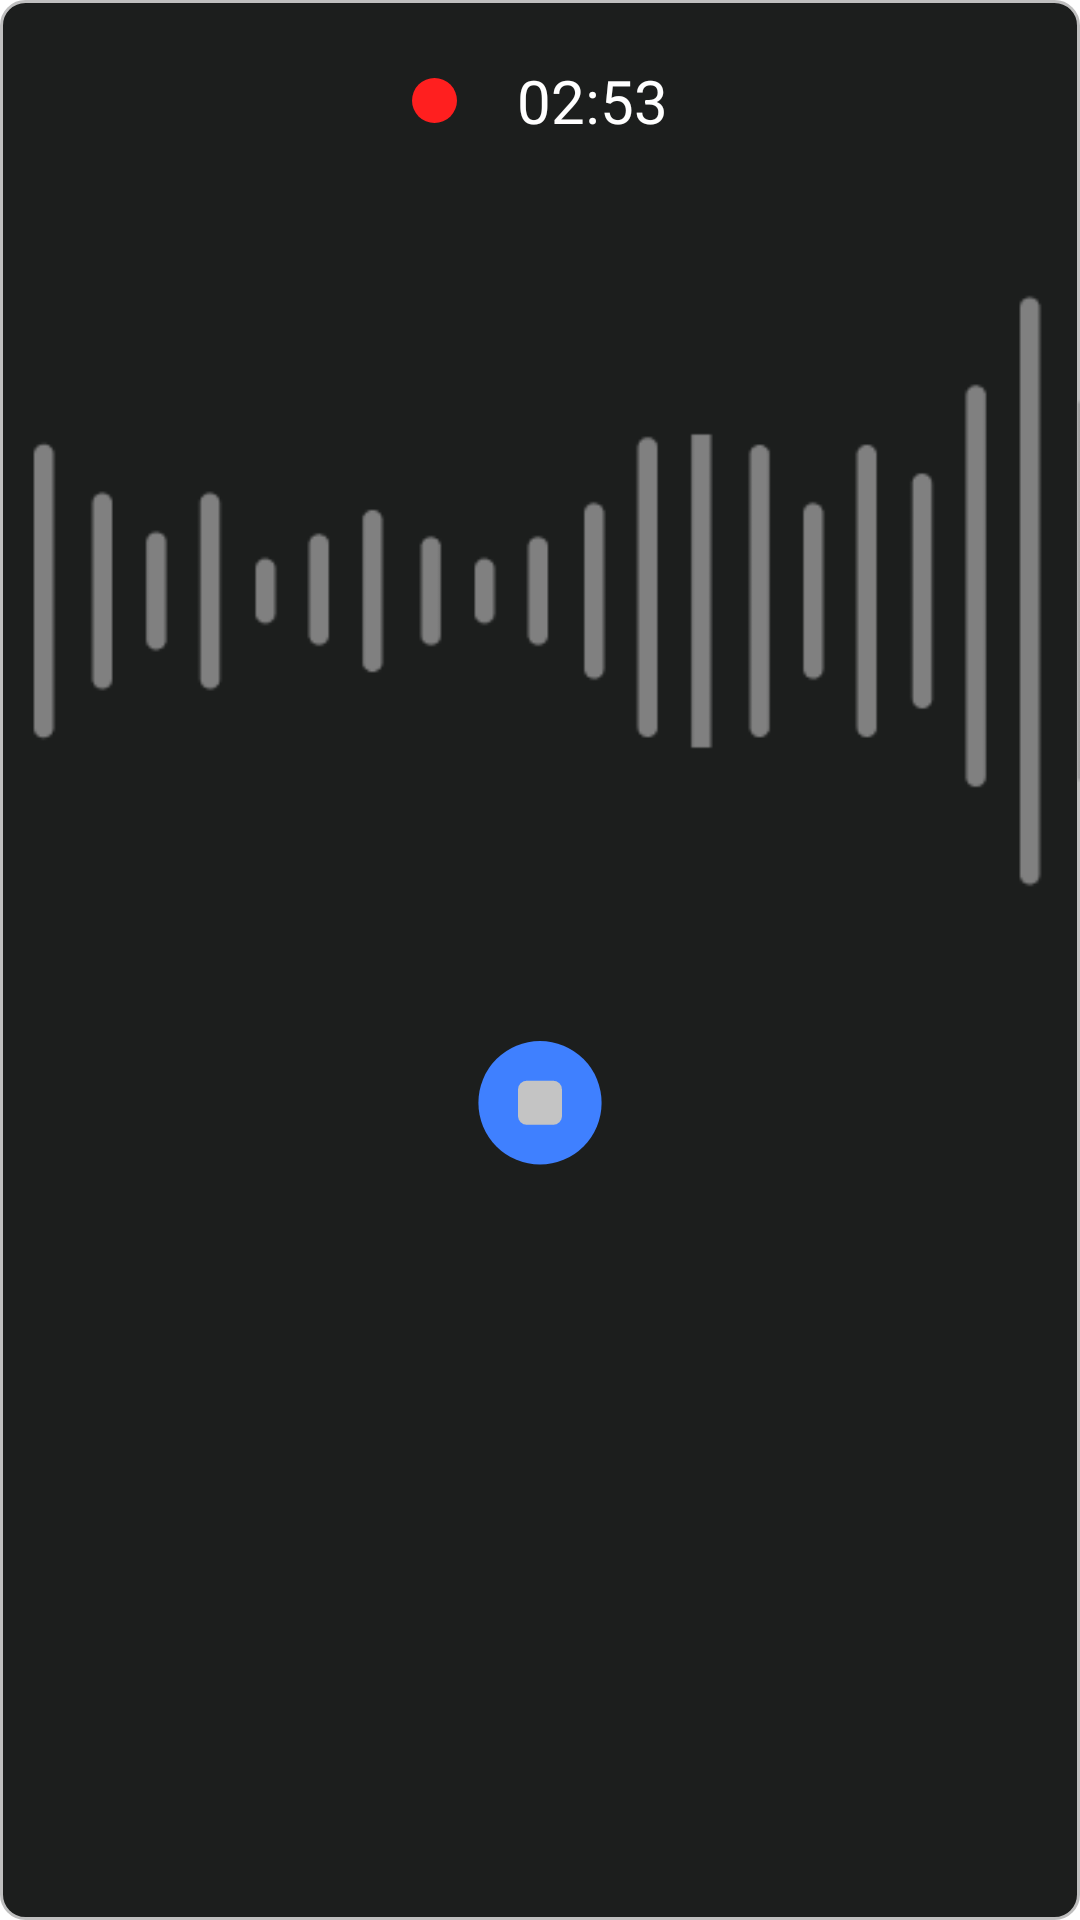

Where to tap for icons on this 1080 × 1920 app screen, as [x,y]:
audiostop: [540,1103]
